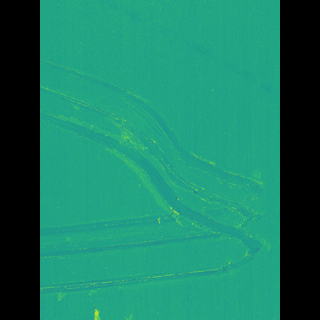Loch: (68, 57, 242, 299), (107, 0, 250, 102)
